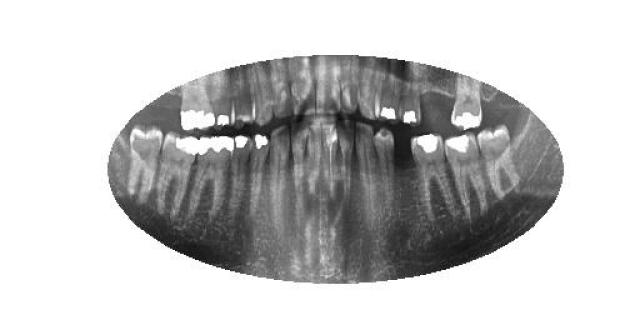Fillings: (411, 131, 459, 221), (188, 132, 234, 222), (445, 132, 489, 218), (155, 132, 196, 222), (180, 79, 214, 131), (450, 75, 482, 130), (250, 132, 270, 216), (230, 135, 250, 216), (379, 59, 400, 126), (400, 56, 420, 126), (212, 72, 236, 128)
